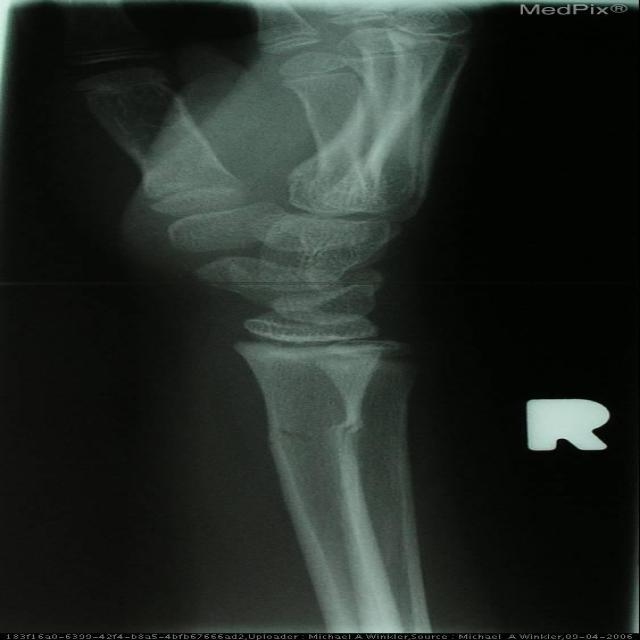fracture: (174, 396, 470, 484)
